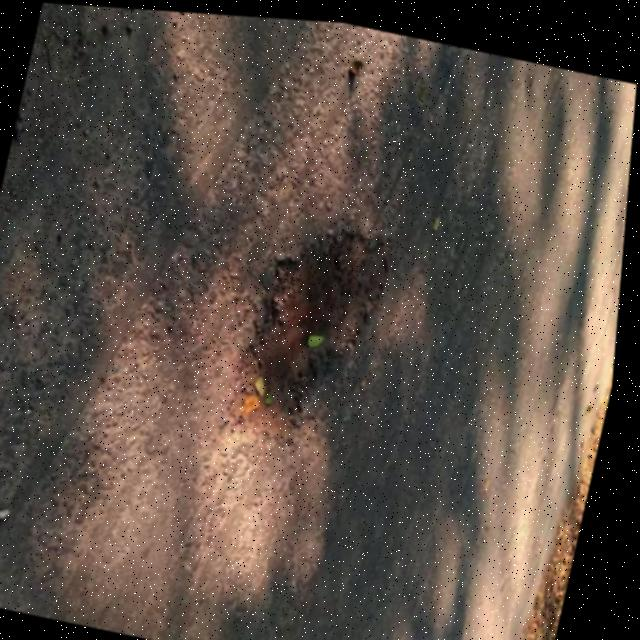Pothole: (222, 198, 407, 460)
